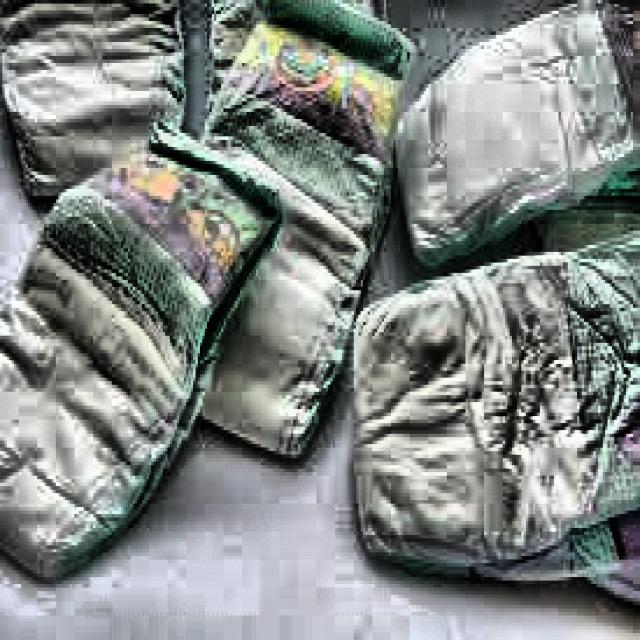trash: (3, 137, 272, 581), (187, 10, 406, 460), (351, 245, 640, 585), (402, 8, 634, 267), (2, 0, 291, 192)
